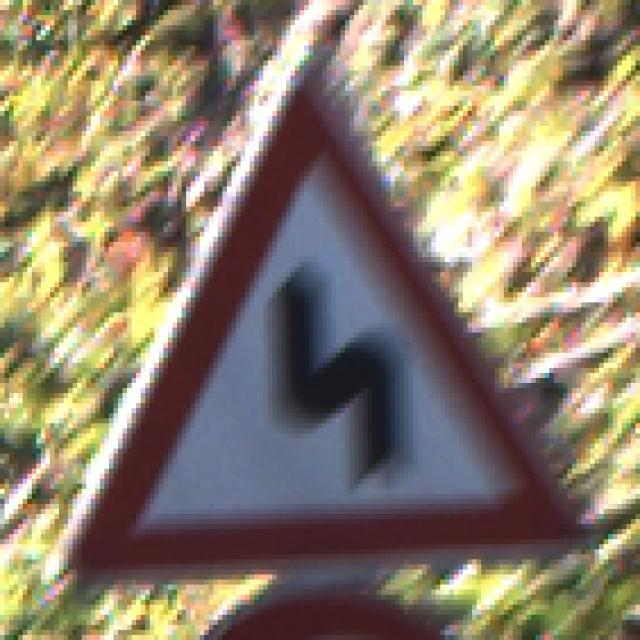left reverse bend: (45, 40, 590, 585)
